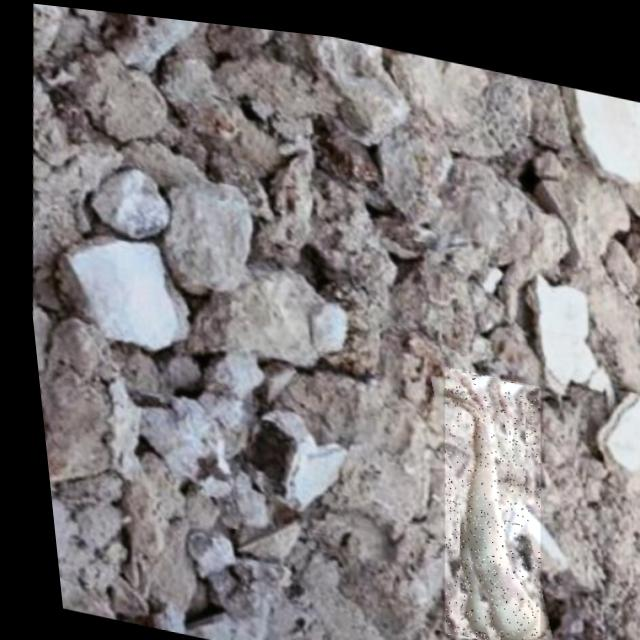Person in Rubble: (408, 354, 554, 640)
